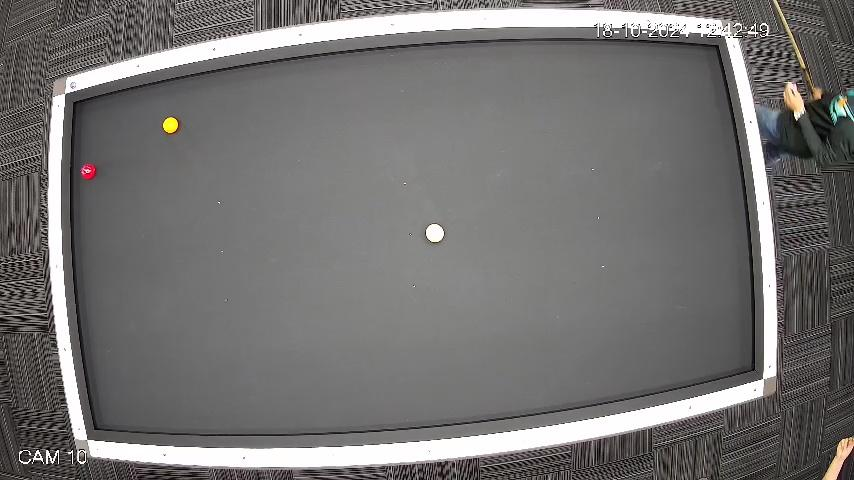Red: (80, 164, 96, 180)
White: (424, 222, 446, 243)
Yellow: (161, 115, 180, 135)
